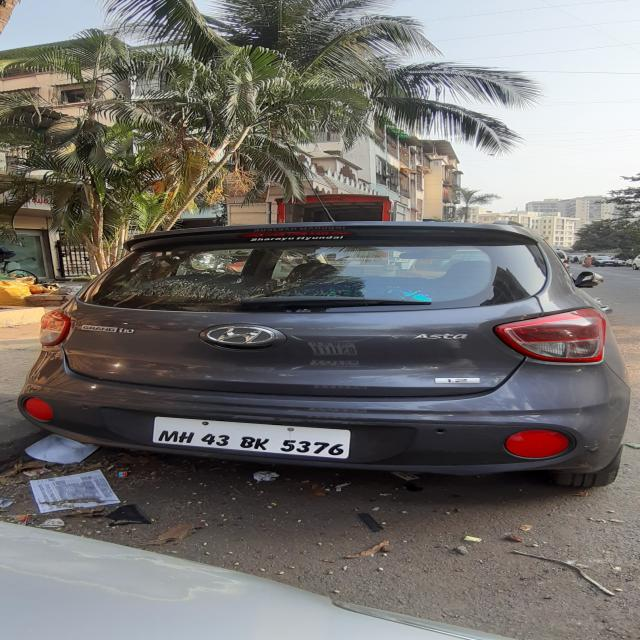Number-Plate: (154, 418, 346, 458)
